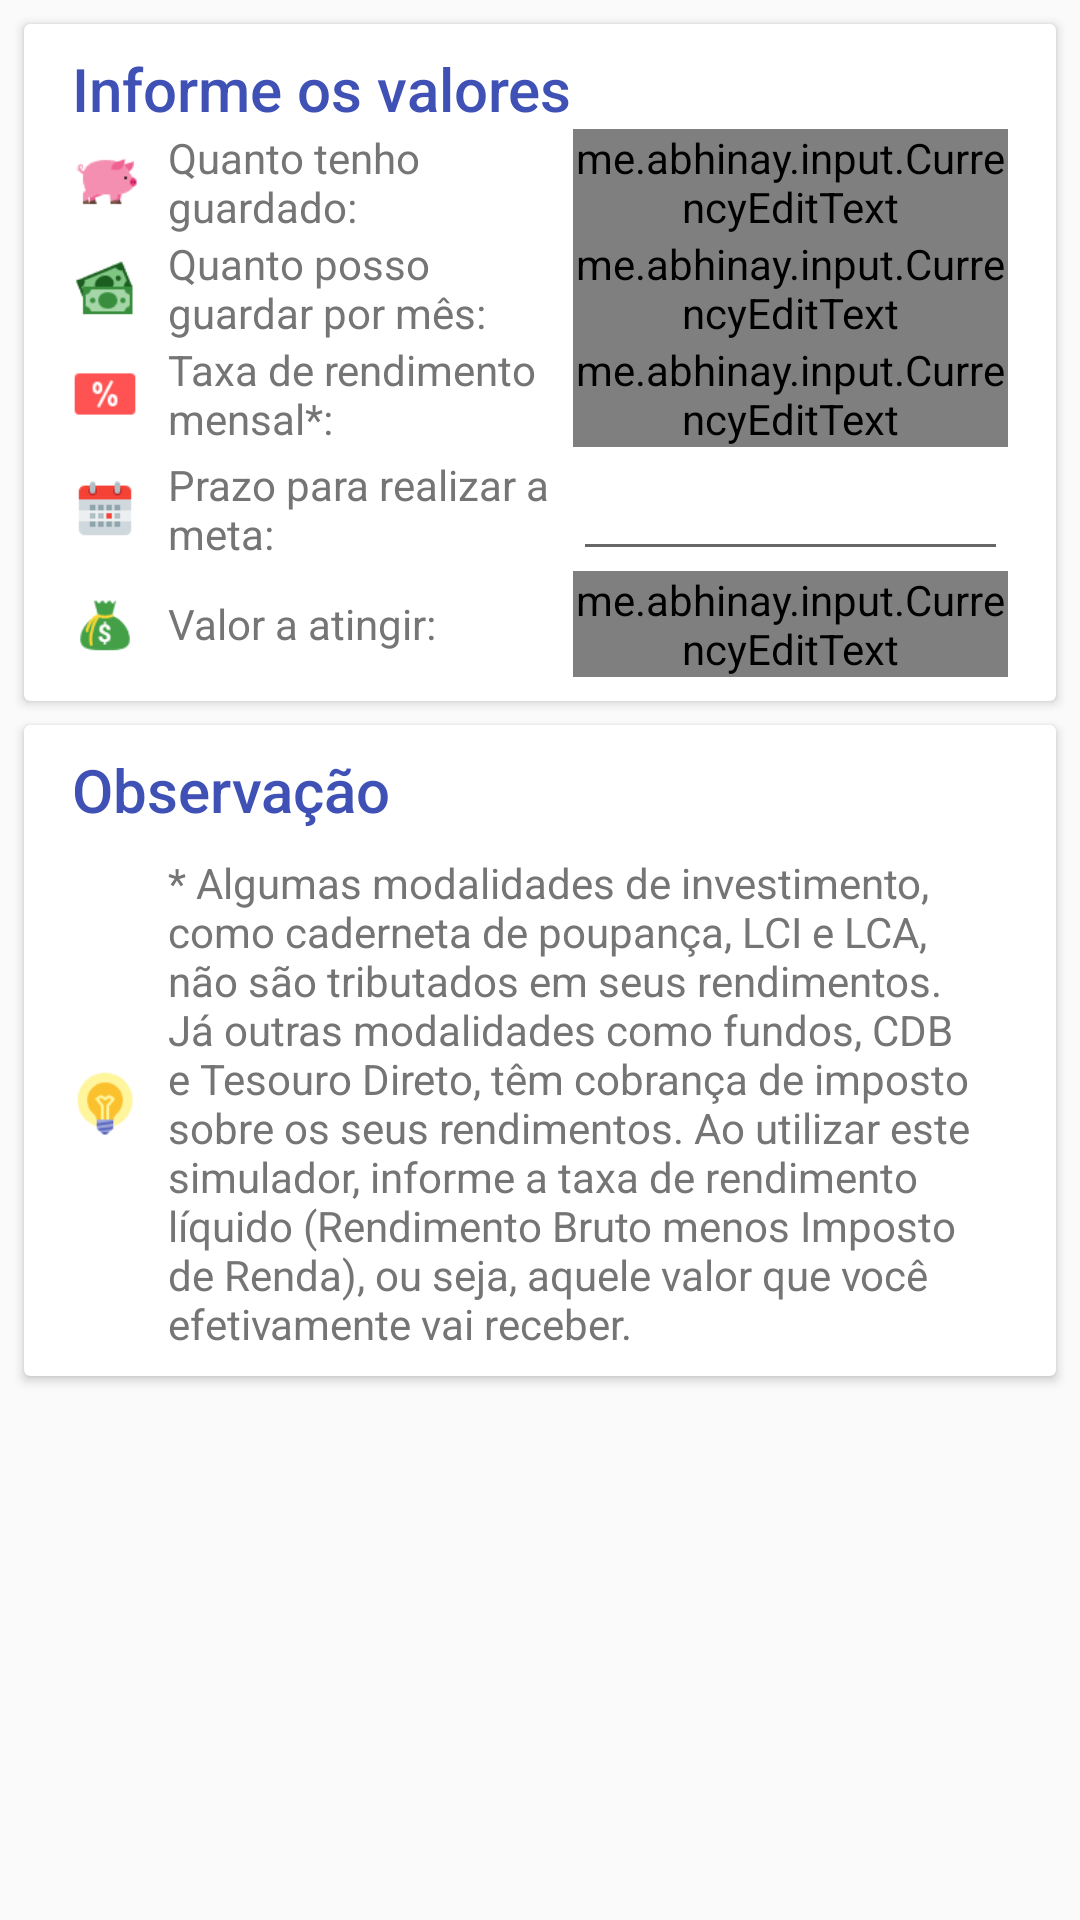

Screen size 1080px×1920px. Icon name, then its box in pixels as [x1=x1, y1=y1, x2=x2, y2=y2]:
banknotes: [x1=76, y1=261, x2=133, y2=315]
idea: [x1=77, y1=1072, x2=133, y2=1135]
money bag: [x1=80, y1=600, x2=130, y2=651]
pig: [x1=77, y1=159, x2=137, y2=205]
tear off calendar: [x1=78, y1=481, x2=132, y2=535]
